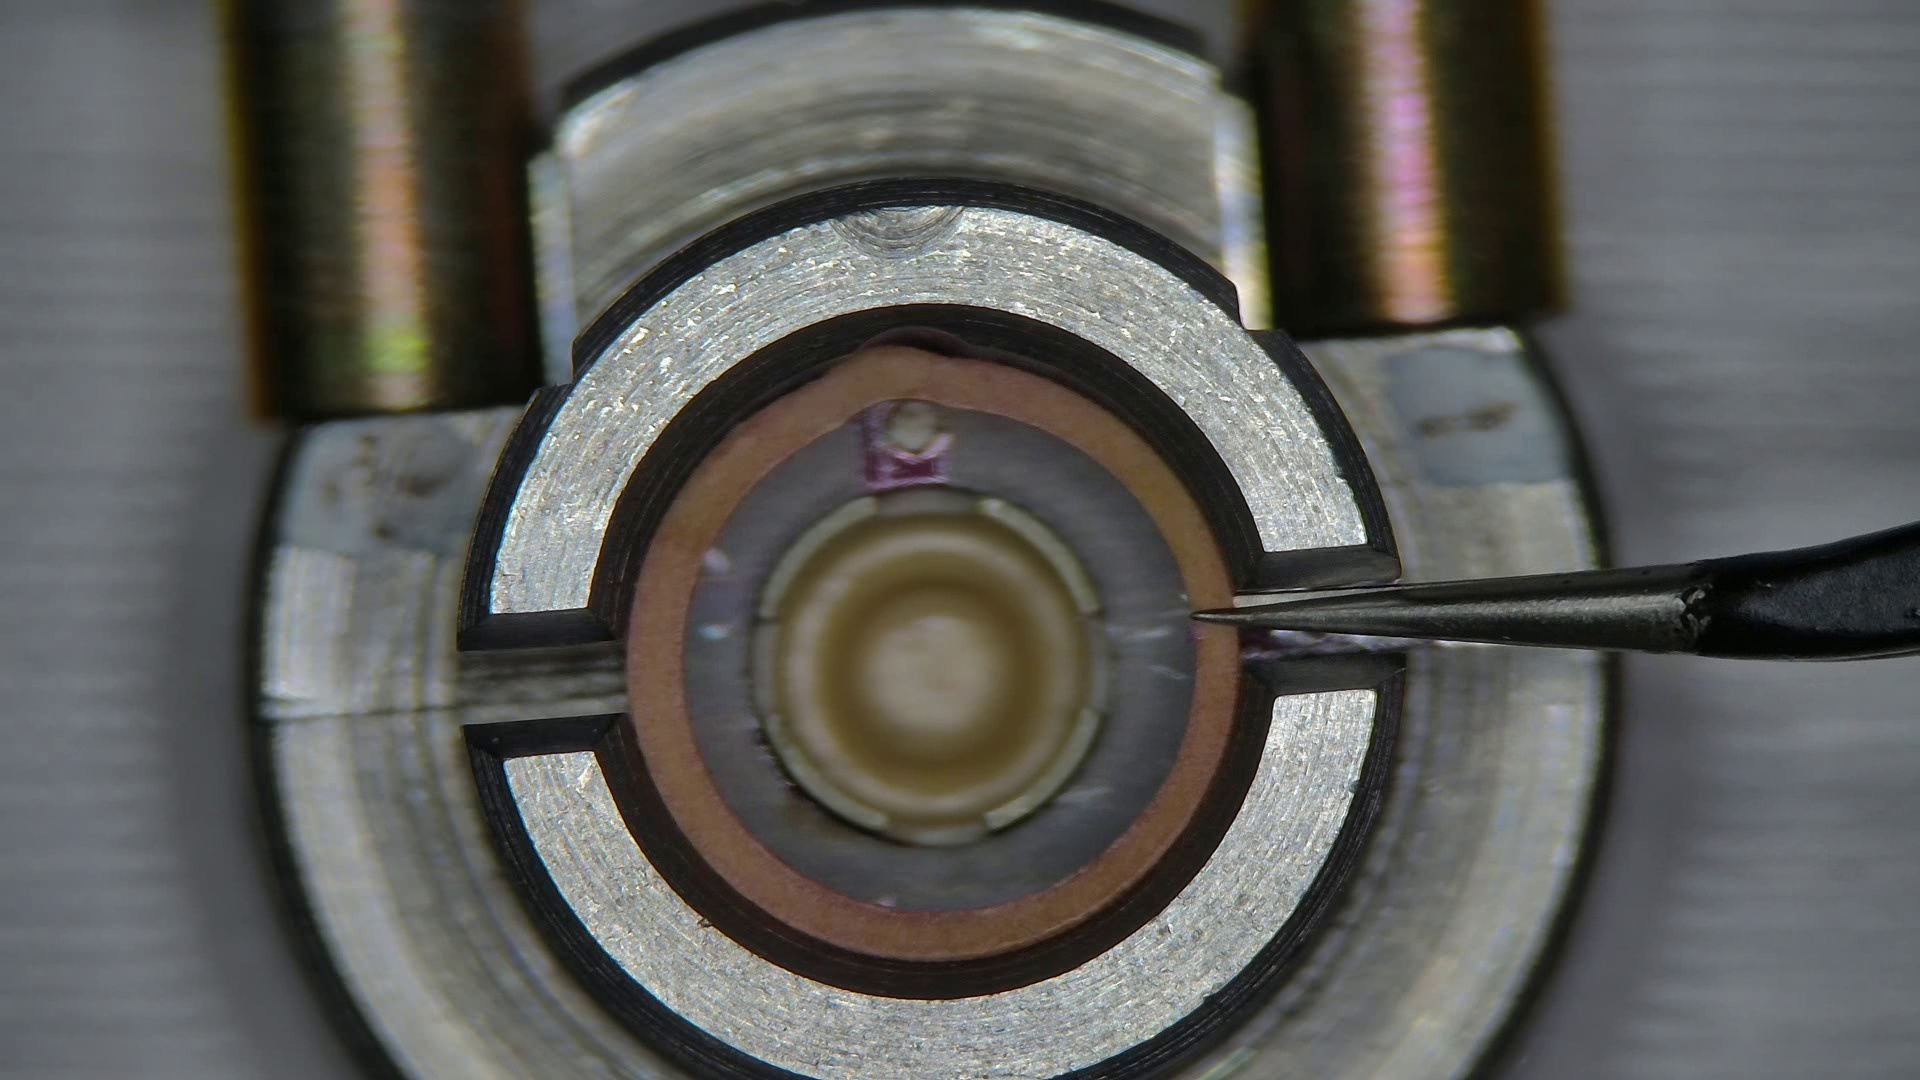GreyOring: (626, 345, 1236, 960)
YellowOring: (686, 402, 1192, 907)
